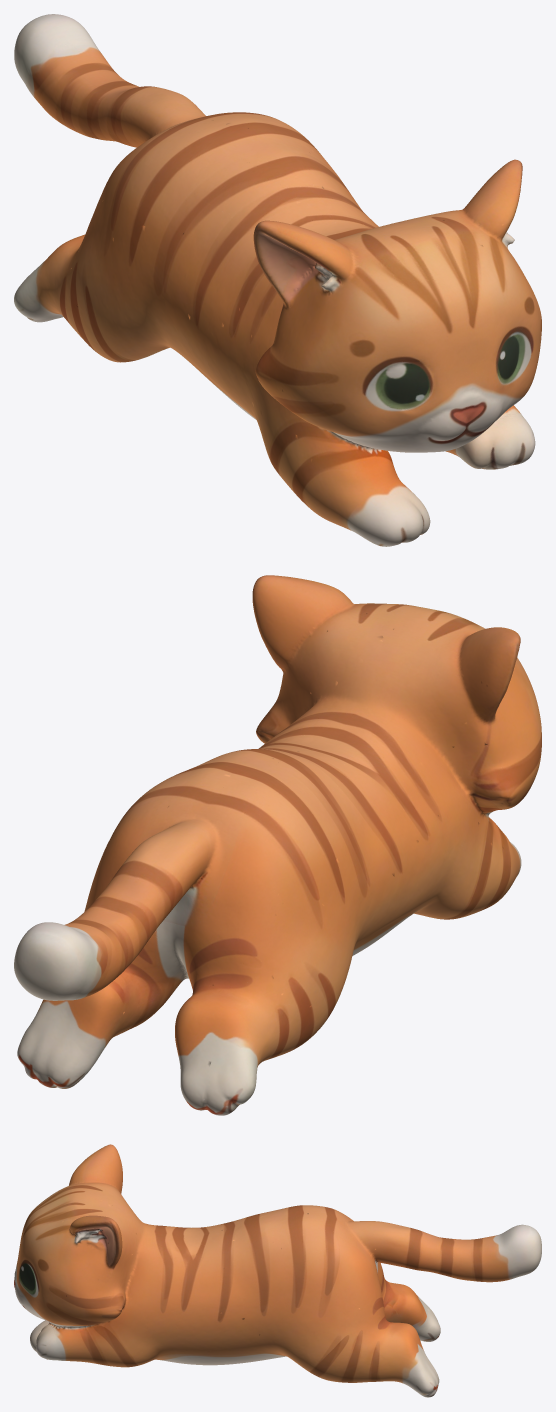
Rendered from Meshy_AI_Cat_Jump_0617142055_texture.glb.
3 renders of one model, top to bottom at view 1: azimuth 30°, elevation 25°; view 2: azimuth 150°, elevation 25°; view 3: azimuth 270°, elevation 25°, orthographic. The views are drawn at different scales.
Bounding box in the file's own units: 0.7073 × 0.7919 × 2.
1 material, 1 textured.
